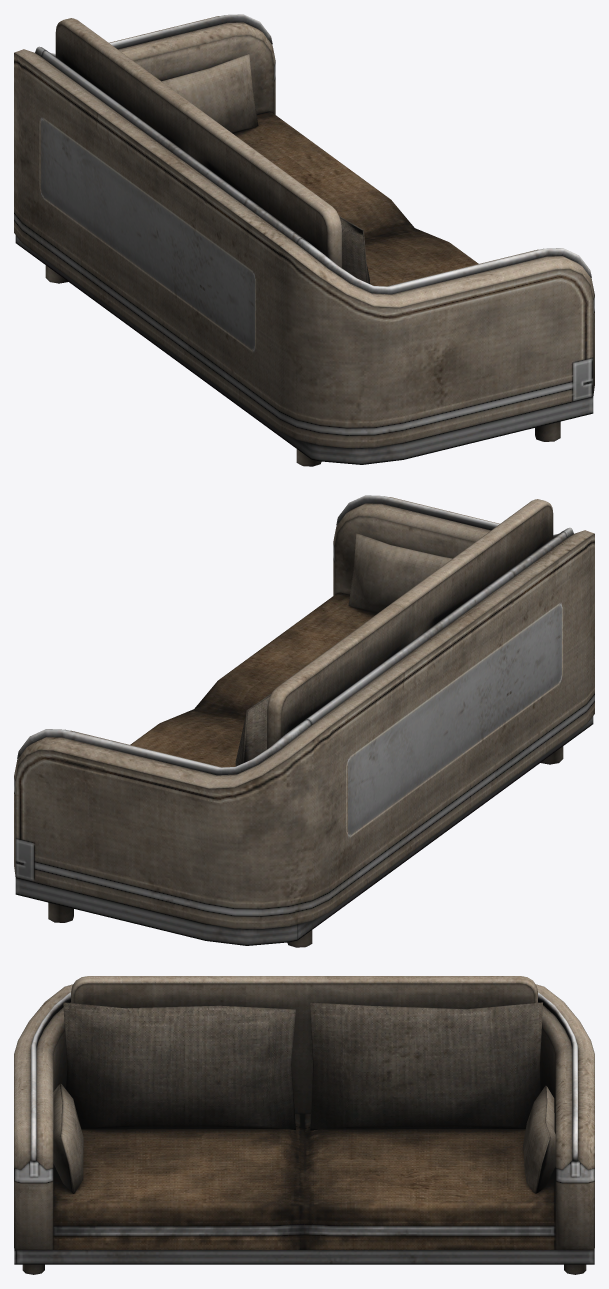
File: sofa_worn_community_room.dae
The picture shows the model from 3 angles, top to bottom: view 1: azimuth 30°, elevation 25°; view 2: azimuth 150°, elevation 25°; view 3: azimuth 270°, elevation 25°; orthographic projection. The views are drawn at different scales.
Visible parts, largest first — view 1: Mesh; view 2: Mesh; view 3: Mesh.
Part boxes in pixels (box(x1,y1,x2,y2)): Mesh: box(14, 14, 594, 466); Mesh: box(14, 495, 594, 947); Mesh: box(14, 976, 594, 1274).
Size of the model in its own units: 1.42 by 1.22 by 3.
Materials: 1 (1 with a texture image).
